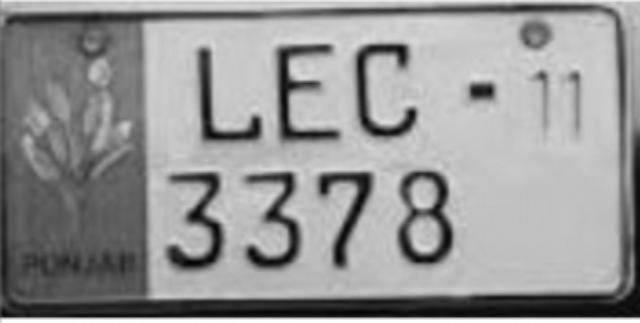Number: (156, 27, 464, 288)
